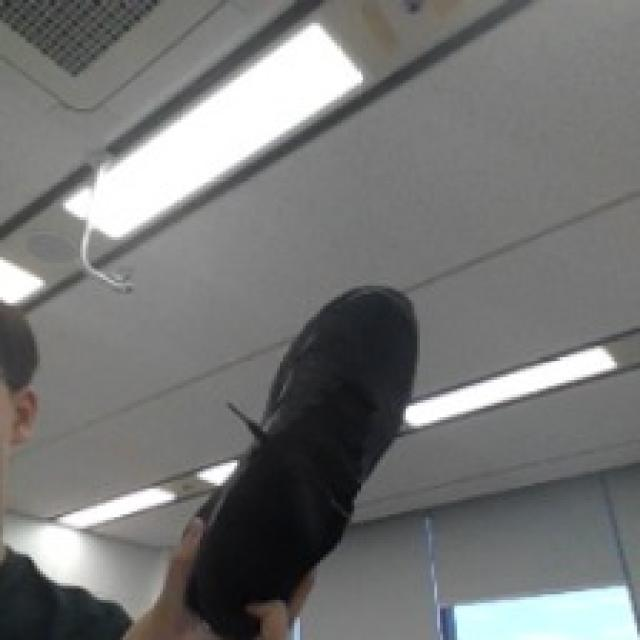shoe: (174, 283, 416, 640)
